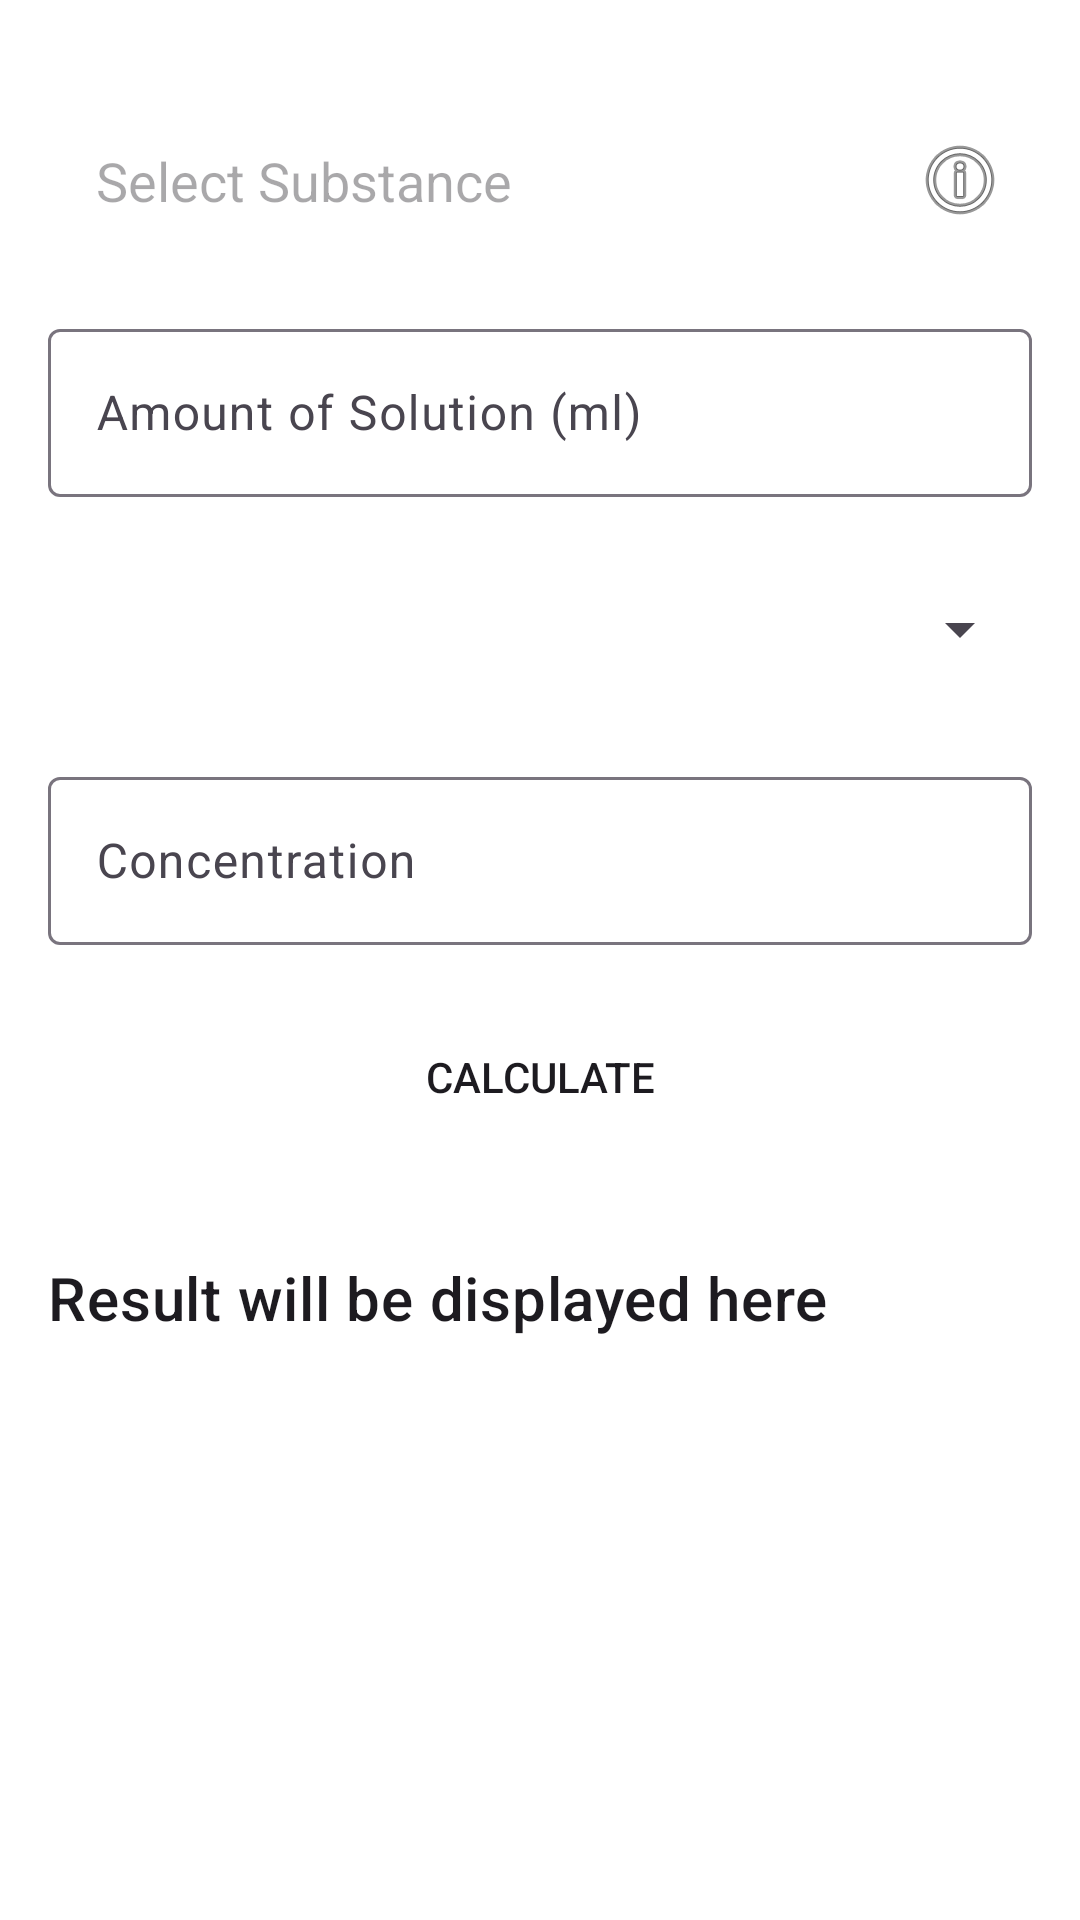

Named icons in this screenshot (1080×1920) and their centers, (x,y):
Information: (960,180)
